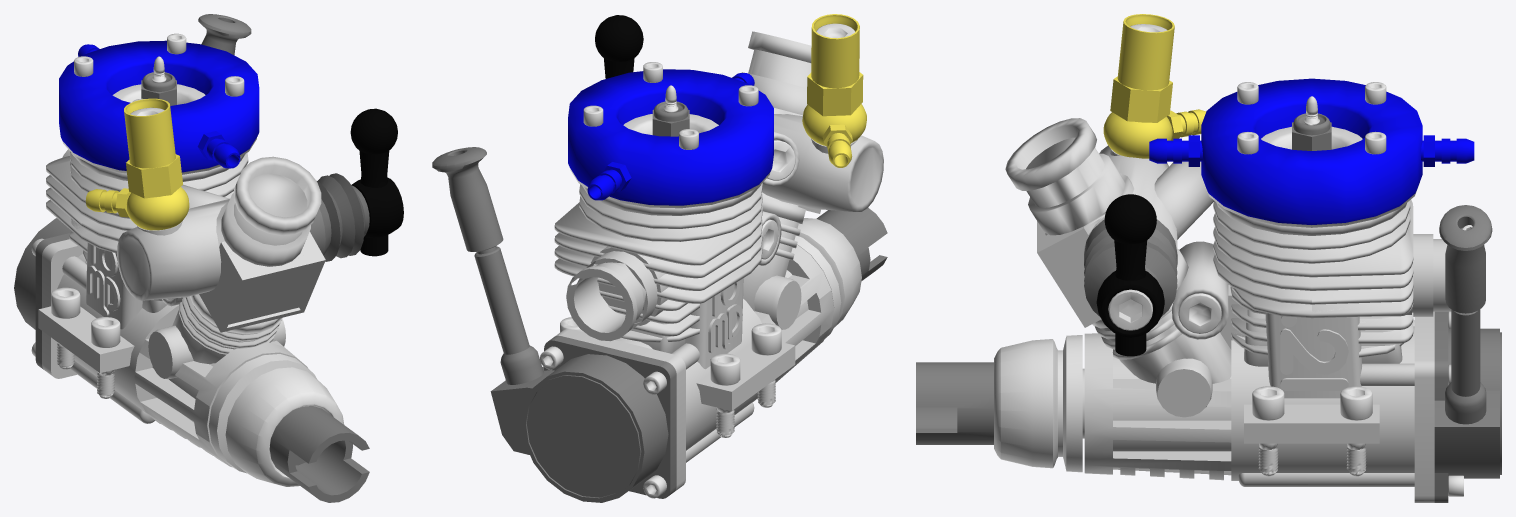
The model's file is EngineModel.fbx.
3 renders of one model, left to right at view 1: azimuth 30°, elevation 25°; view 2: azimuth 150°, elevation 25°; view 3: azimuth 270°, elevation 25°, orthographic. The views are drawn at different scales.
Visible parts, largest first — view 1: NITRO_ENGINE.075, NITRO_ENGINE.122, NITRO_ENGINE.090, NITRO_ENGINE.042, NITRO_ENGINE.131, NITRO_ENGINE.059, NITRO_ENGINE.072, NITRO_ENGINE.003, NITRO_ENGINE.007, NITRO_ENGINE.097, NITRO_ENGINE.024, NITRO_ENGINE.026 (+1 smaller); view 2: NITRO_ENGINE.097, NITRO_ENGINE.122, NITRO_ENGINE.131, NITRO_ENGINE.042, NITRO_ENGINE.075, NITRO_ENGINE.090, NITRO_ENGINE.059, NITRO_ENGINE.096, NITRO_ENGINE.003, NITRO_ENGINE.072, NITRO_ENGINE.026, NITRO_ENGINE.116 (+3 smaller); view 3: NITRO_ENGINE.042, NITRO_ENGINE.075, NITRO_ENGINE.122, NITRO_ENGINE.090, NITRO_ENGINE.131, NITRO_ENGINE.097, NITRO_ENGINE.059, NITRO_ENGINE.072, NITRO_ENGINE.003, NITRO_ENGINE.007, NITRO_ENGINE.096, NITRO_ENGINE.020 (+4 smaller).
Boxes of the visible parts, x1=… form: NITRO_ENGINE.075: x1=117, y1=156, x2=325, y2=379; NITRO_ENGINE.122: x1=59, y1=40, x2=259, y2=172; NITRO_ENGINE.090: x1=134, y1=338, x2=344, y2=486; NITRO_ENGINE.042: x1=35, y1=233, x2=178, y2=424; NITRO_ENGINE.131: x1=46, y1=84, x2=256, y2=312; NITRO_ENGINE.059: x1=85, y1=98, x2=189, y2=235; NITRO_ENGINE.072: x1=269, y1=406, x2=369, y2=502; NITRO_ENGINE.003: x1=350, y1=108, x2=403, y2=256; NITRO_ENGINE.007: x1=310, y1=173, x2=369, y2=261; NITRO_ENGINE.097: x1=14, y1=14, x2=251, y2=329; NITRO_ENGINE.024: x1=91, y1=317, x2=120, y2=398; NITRO_ENGINE.026: x1=51, y1=287, x2=80, y2=369; NITRO_ENGINE.097: x1=432, y1=147, x2=668, y2=502; NITRO_ENGINE.122: x1=568, y1=69, x2=773, y2=205; NITRO_ENGINE.131: x1=554, y1=114, x2=770, y2=353; NITRO_ENGINE.042: x1=544, y1=278, x2=795, y2=498; NITRO_ENGINE.075: x1=741, y1=31, x2=883, y2=329; NITRO_ENGINE.090: x1=754, y1=218, x2=861, y2=382; NITRO_ENGINE.059: x1=802, y1=14, x2=866, y2=167; NITRO_ENGINE.096: x1=566, y1=246, x2=668, y2=341; NITRO_ENGINE.003: x1=595, y1=15, x2=643, y2=78; NITRO_ENGINE.072: x1=816, y1=208, x2=887, y2=281; NITRO_ENGINE.026: x1=710, y1=353, x2=740, y2=437; NITRO_ENGINE.116: x1=652, y1=85, x2=689, y2=136; NITRO_ENGINE.042: x1=1231, y1=311, x2=1448, y2=502; NITRO_ENGINE.075: x1=1005, y1=118, x2=1238, y2=417; NITRO_ENGINE.122: x1=1149, y1=78, x2=1474, y2=224; NITRO_ENGINE.090: x1=994, y1=333, x2=1231, y2=480; NITRO_ENGINE.131: x1=1204, y1=126, x2=1419, y2=366; NITRO_ENGINE.097: x1=1434, y1=205, x2=1501, y2=478; NITRO_ENGINE.059: x1=1103, y1=14, x2=1206, y2=158; NITRO_ENGINE.072: x1=916, y1=362, x2=993, y2=444; NITRO_ENGINE.003: x1=1096, y1=194, x2=1164, y2=356; NITRO_ENGINE.007: x1=1084, y1=219, x2=1177, y2=316; NITRO_ENGINE.096: x1=1407, y1=234, x2=1451, y2=316; NITRO_ENGINE.020: x1=1340, y1=386, x2=1372, y2=476.
Size of the model in its own units: 2255 by 2817 by 3673.
